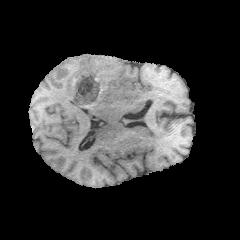glioma: (53, 56, 147, 111)
